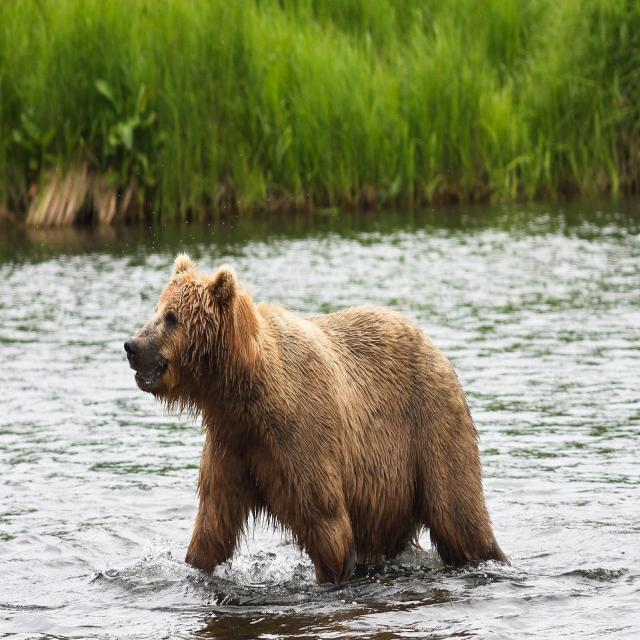Bear: (121, 255, 510, 586)
